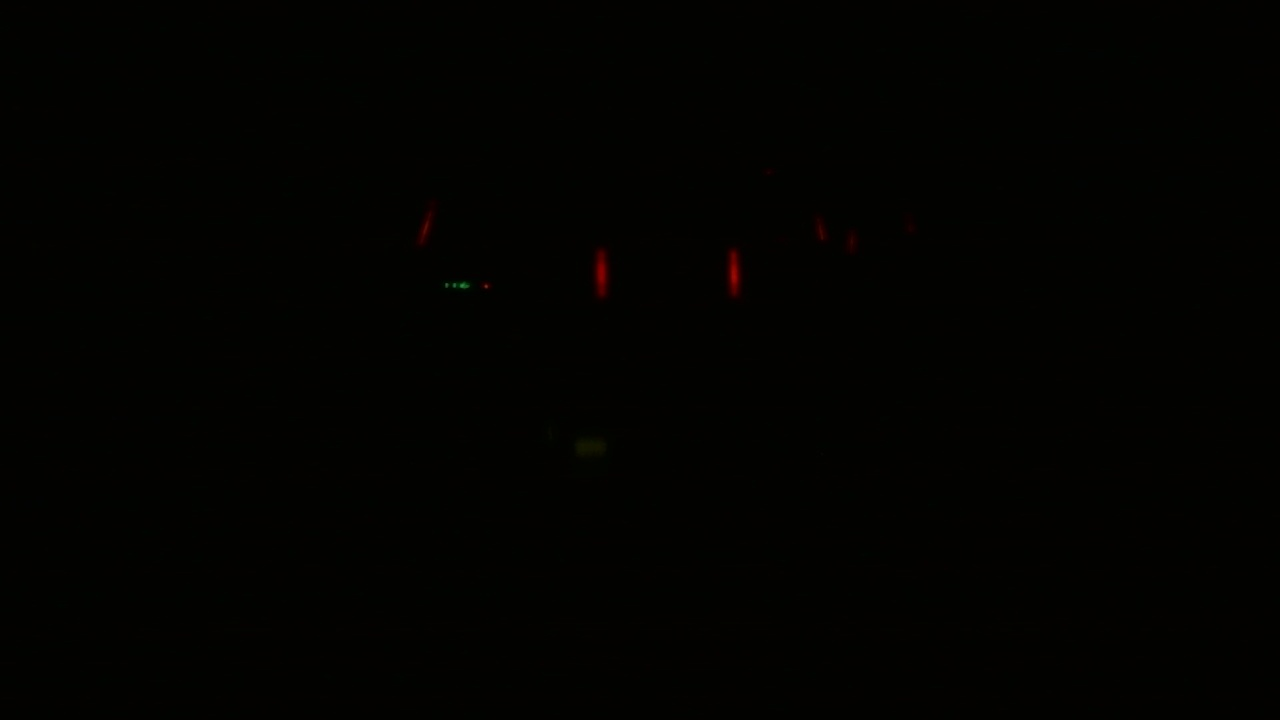pair1: (592, 239, 742, 296)
